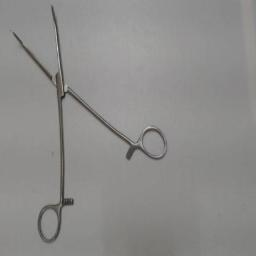Lahey Forceps: (10, 1, 170, 247)
